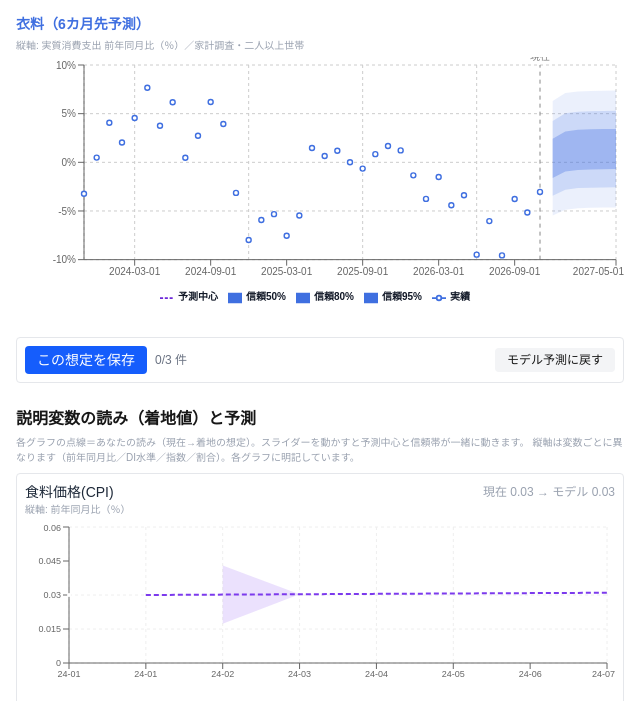
Simulator interactions › saves up to three scenarios and disables further saving
(page scrolled)
Click the button "この想定を保存" at x=86, y=360, box [25,346,147,374]
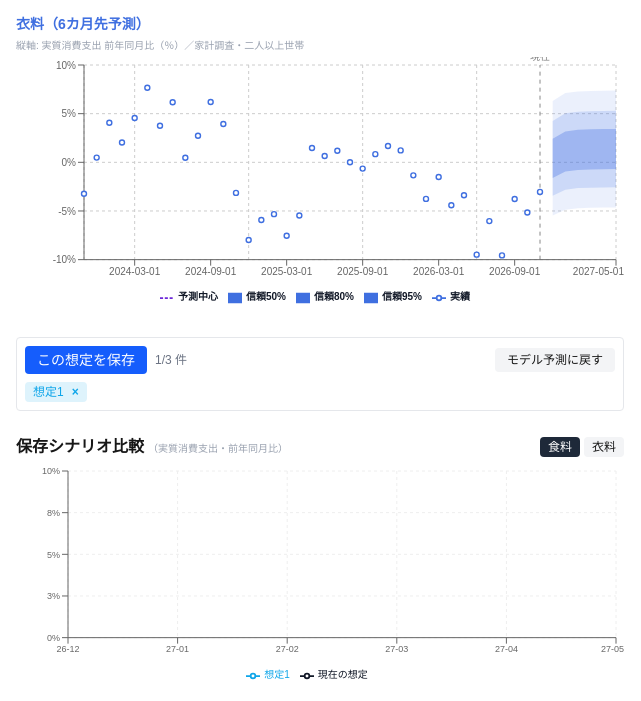
expect the element with test id "scenario-compare" is shown: met, box [16,435,624,687]
Click the button "この想定を保存" at x=86, y=360, box [25,346,147,374]
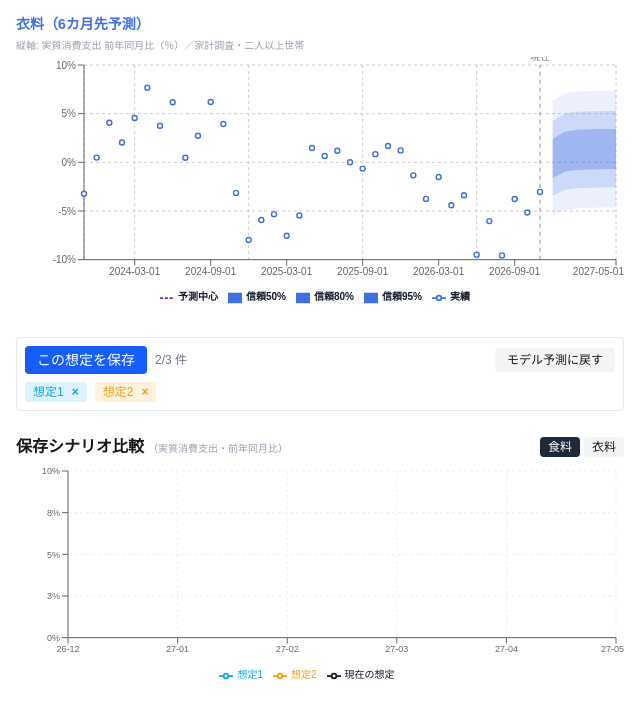
Click the button "この想定を保存" at x=86, y=360, box [25,346,147,374]
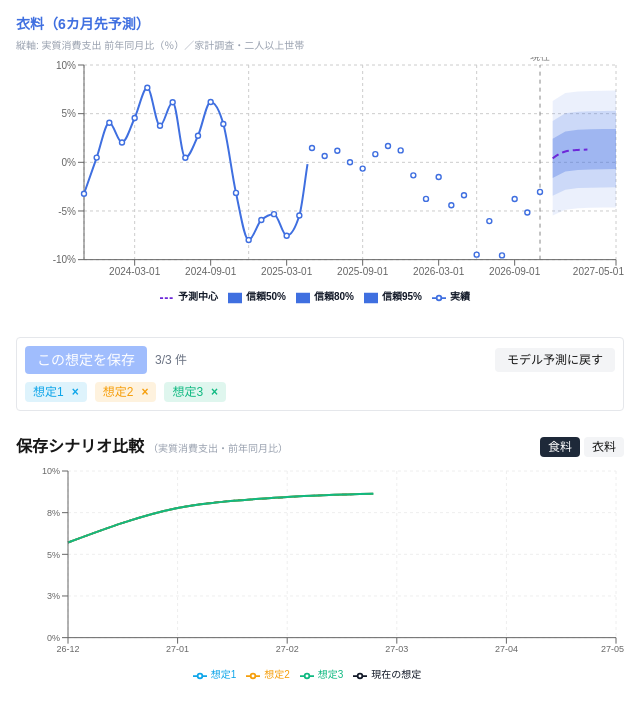
expect the button "この想定を保存" is disabled: met, box [25,346,147,374]
